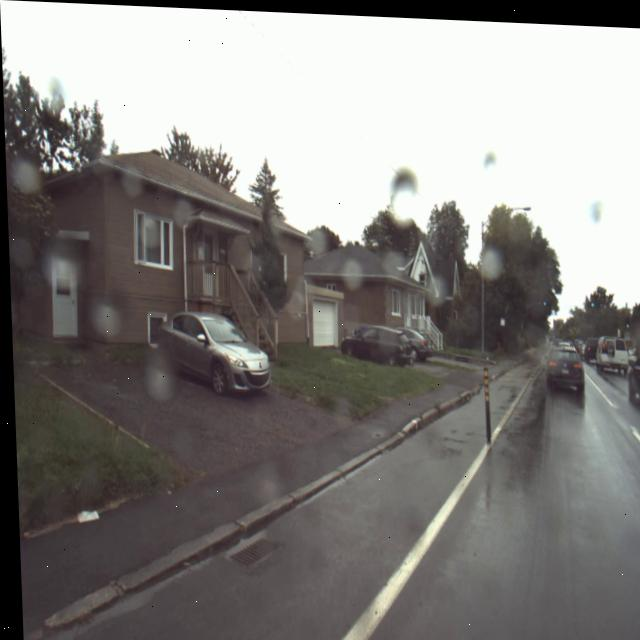car: (154, 309, 269, 392), (337, 321, 409, 363), (543, 339, 583, 396), (592, 331, 623, 369), (622, 341, 640, 403), (407, 325, 428, 358)
trafficLight-Green: (540, 294, 545, 302), (588, 296, 593, 302), (624, 316, 628, 323)
